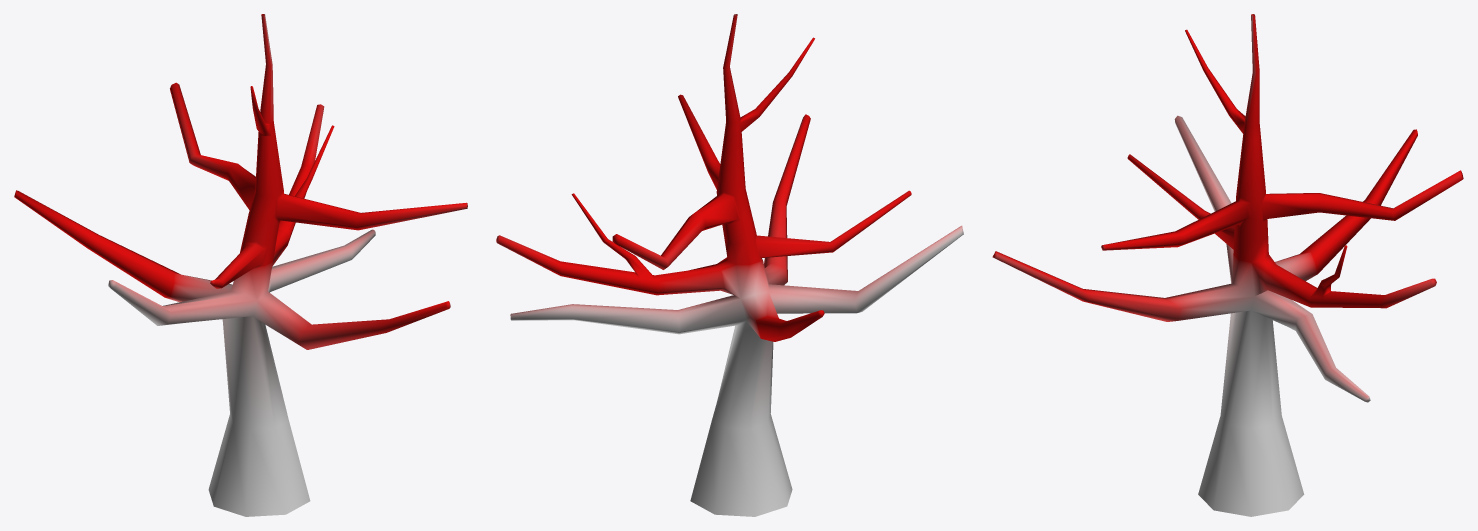
The model's file is tree_1a (2).fbx.
The picture shows the model from 3 angles, left to right: view 1: azimuth 30°, elevation 25°; view 2: azimuth 150°, elevation 25°; view 3: azimuth 270°, elevation 25°; orthographic projection.
Visible parts, largest first — view 1: tree_dead_001; view 2: tree_dead_001; view 3: tree_dead_001.
Boxes of the visible parts, left/top/right/bottom form: tree_dead_001: left=14, top=14, right=467, bottom=516; tree_dead_001: left=496, top=14, right=963, bottom=516; tree_dead_001: left=992, top=14, right=1463, bottom=516.
Size of the model in its own units: 559 by 713 by 632.
